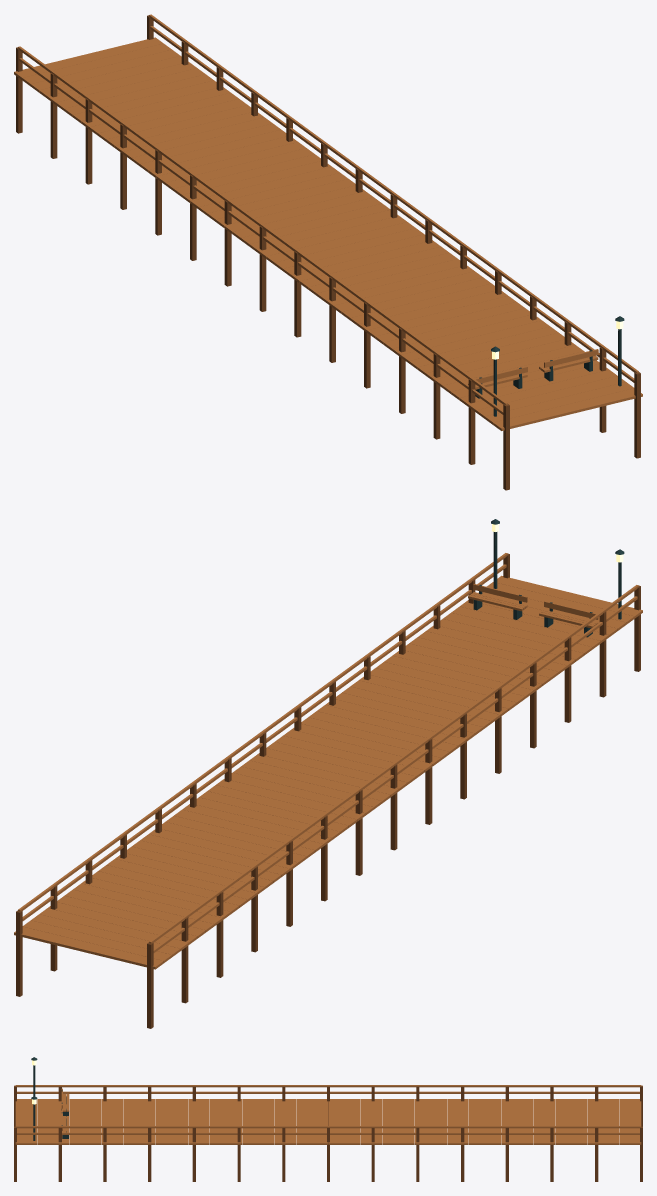
File: pier_dock_lake.fbx
3 renders of one model, top to bottom at view 1: azimuth 30°, elevation 25°; view 2: azimuth 150°, elevation 25°; view 3: azimuth 270°, elevation 25°, orthographic. The views are drawn at different scales.
Parts seen in each view (by area): view 1: pier_dock_lake; view 2: pier_dock_lake; view 3: pier_dock_lake.
Part boxes in pixels (left/top/right/bottom): pier_dock_lake: left=14, top=14, right=642, bottom=490; pier_dock_lake: left=14, top=519, right=642, bottom=1028; pier_dock_lake: left=14, top=1057, right=642, bottom=1181.
Bounding box in the file's own units: 6 × 5.31 × 36.
